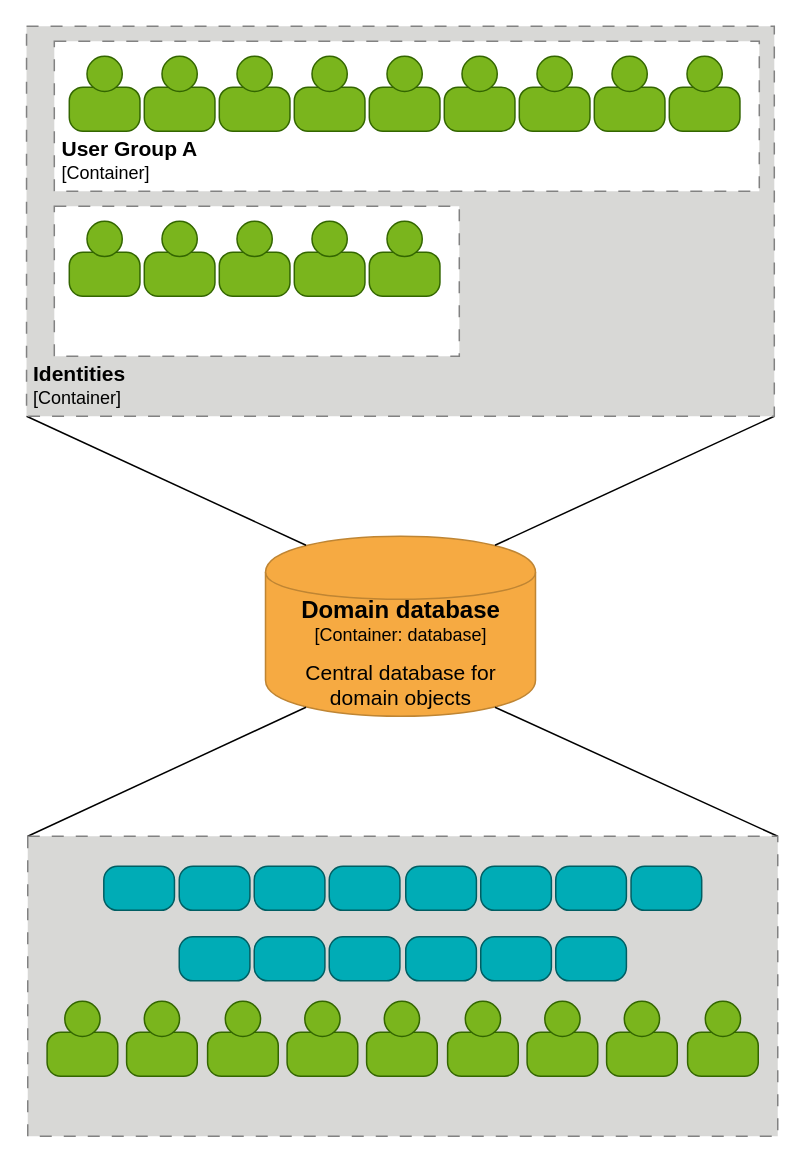
This 806x1163 diagram has some shape labels left out. Here are the shapes that lost their labels. From the top down, the box of each, then its label:
(53, 205, 459, 356): User Group B [Container]
(26, 835, 778, 1136): Domain objects [Container]
